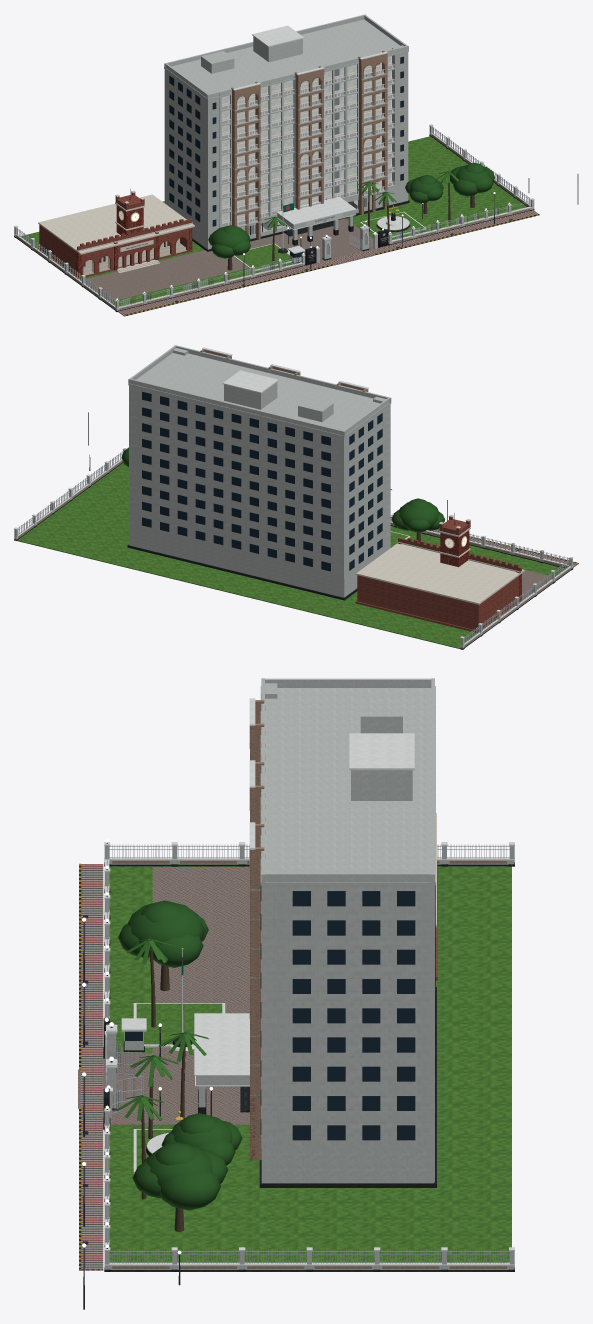
Rendered from khulna_judge_court.glb.
3 views of the same model, one above another, from view 1: azimuth 30°, elevation 25°; view 2: azimuth 150°, elevation 25°; view 3: azimuth 270°, elevation 25° (orthographic). The views are drawn at different scales.
Visible parts, largest first — view 1: CJM_Court_10Story_Building, Historic_RedBrick_Judge_Court_ClockTower, Compound_Lawn, CJM_All10Floors_Marble_Slabs, CJM_10Story_White_Baluster_Railings, CJM_All10Floors_Veranda_Glass, Site_And_Main_Gate, CJM_Left_Wall, North_Court_Promenade, CJM_All10Floors_Interior_Walls, Brick_Twin_Tower_1, Brick_Twin_Tower_3 (+16 smaller); view 2: CJM_Rear_Wall, CJM_Court_10Story_Building, Compound_Lawn, CJM_10Story_RearSide_Windows, Historic_RedBrick_Judge_Court_ClockTower, CJM_Left_Wall, Site_And_Main_Gate, Boundary_Wall_SilverSteel_Picket_Fence, Mahogany_Tree_81, Rooftop_Lift_Machine_Room, ClockTower_3D_Brick_Shaft, CJM_Granite_Plinth (+4 smaller); view 3: Compound_Lawn, CJM_Court_10Story_Building, CJM_Right_Wall, Site_And_Main_Gate, CJM_10Story_RearSide_Windows, North_Court_Promenade, Khulna_Striped_Footpath, Main_Courtyard_Driveway, Boundary_Wall_SilverSteel_Picket_Fence, Mahogany_Tree_84, Mahogany_Tree_81, CJM_Grand_Entrance_Portico (+12 smaller).
Part boxes in pixels (bbox=[...]): CJM_Court_10Story_Building: bbox=[164, 14, 408, 249]; Historic_RedBrick_Judge_Court_ClockTower: bbox=[38, 194, 194, 278]; Compound_Lawn: bbox=[21, 136, 526, 306]; CJM_All10Floors_Marble_Slabs: bbox=[221, 56, 391, 220]; CJM_10Story_White_Baluster_Railings: bbox=[221, 64, 394, 226]; CJM_All10Floors_Veranda_Glass: bbox=[222, 56, 390, 220]; Site_And_Main_Gate: bbox=[14, 124, 578, 311]; CJM_Left_Wall: bbox=[165, 69, 207, 228]; North_Court_Promenade: bbox=[81, 235, 293, 301]; CJM_All10Floors_Interior_Walls: bbox=[221, 62, 392, 223]; Brick_Twin_Tower_1: bbox=[231, 81, 260, 239]; Brick_Twin_Tower_3: bbox=[358, 50, 387, 214]; CJM_Rear_Wall: bbox=[129, 385, 344, 578]; CJM_Court_10Story_Building: bbox=[128, 345, 391, 597]; Compound_Lawn: bbox=[17, 462, 565, 648]; CJM_10Story_RearSide_Windows: bbox=[142, 391, 382, 571]; Historic_RedBrick_Judge_Court_ClockTower: bbox=[355, 537, 524, 632]; CJM_Left_Wall: bbox=[344, 404, 390, 578]; Site_And_Main_Gate: bbox=[14, 410, 573, 649]; Boundary_Wall_SilverSteel_Picket_Fence: bbox=[18, 450, 570, 643]; Mahogany_Tree_81: bbox=[391, 498, 444, 542]; Rooftop_Lift_Machine_Room: bbox=[224, 382, 277, 409]; ClockTower_3D_Brick_Shaft: bbox=[440, 530, 469, 567]; CJM_Granite_Plinth: bbox=[127, 544, 357, 600]; Compound_Lawn: bbox=[109, 866, 511, 1271]; CJM_Court_10Story_Building: bbox=[260, 678, 435, 1183]; CJM_Right_Wall: bbox=[262, 885, 433, 1148]; Site_And_Main_Gate: bbox=[82, 839, 514, 1309]; CJM_10Story_RearSide_Windows: bbox=[292, 885, 435, 1140]; North_Court_Promenade: bbox=[152, 867, 249, 1058]; Khulna_Striped_Footpath: bbox=[80, 864, 103, 1270]; Main_Courtyard_Driveway: bbox=[103, 1053, 249, 1124]; Boundary_Wall_SilverSteel_Picket_Fence: bbox=[107, 844, 509, 1263]; Mahogany_Tree_84: bbox=[132, 1142, 227, 1231]; Mahogany_Tree_81: bbox=[118, 900, 208, 991]; CJM_Grand_Entrance_Portico: bbox=[194, 1013, 249, 1114].
Bounding box in the file's own units: 110 × 38.91 × 45.37.
Materials: 49 (35 with a texture image).
